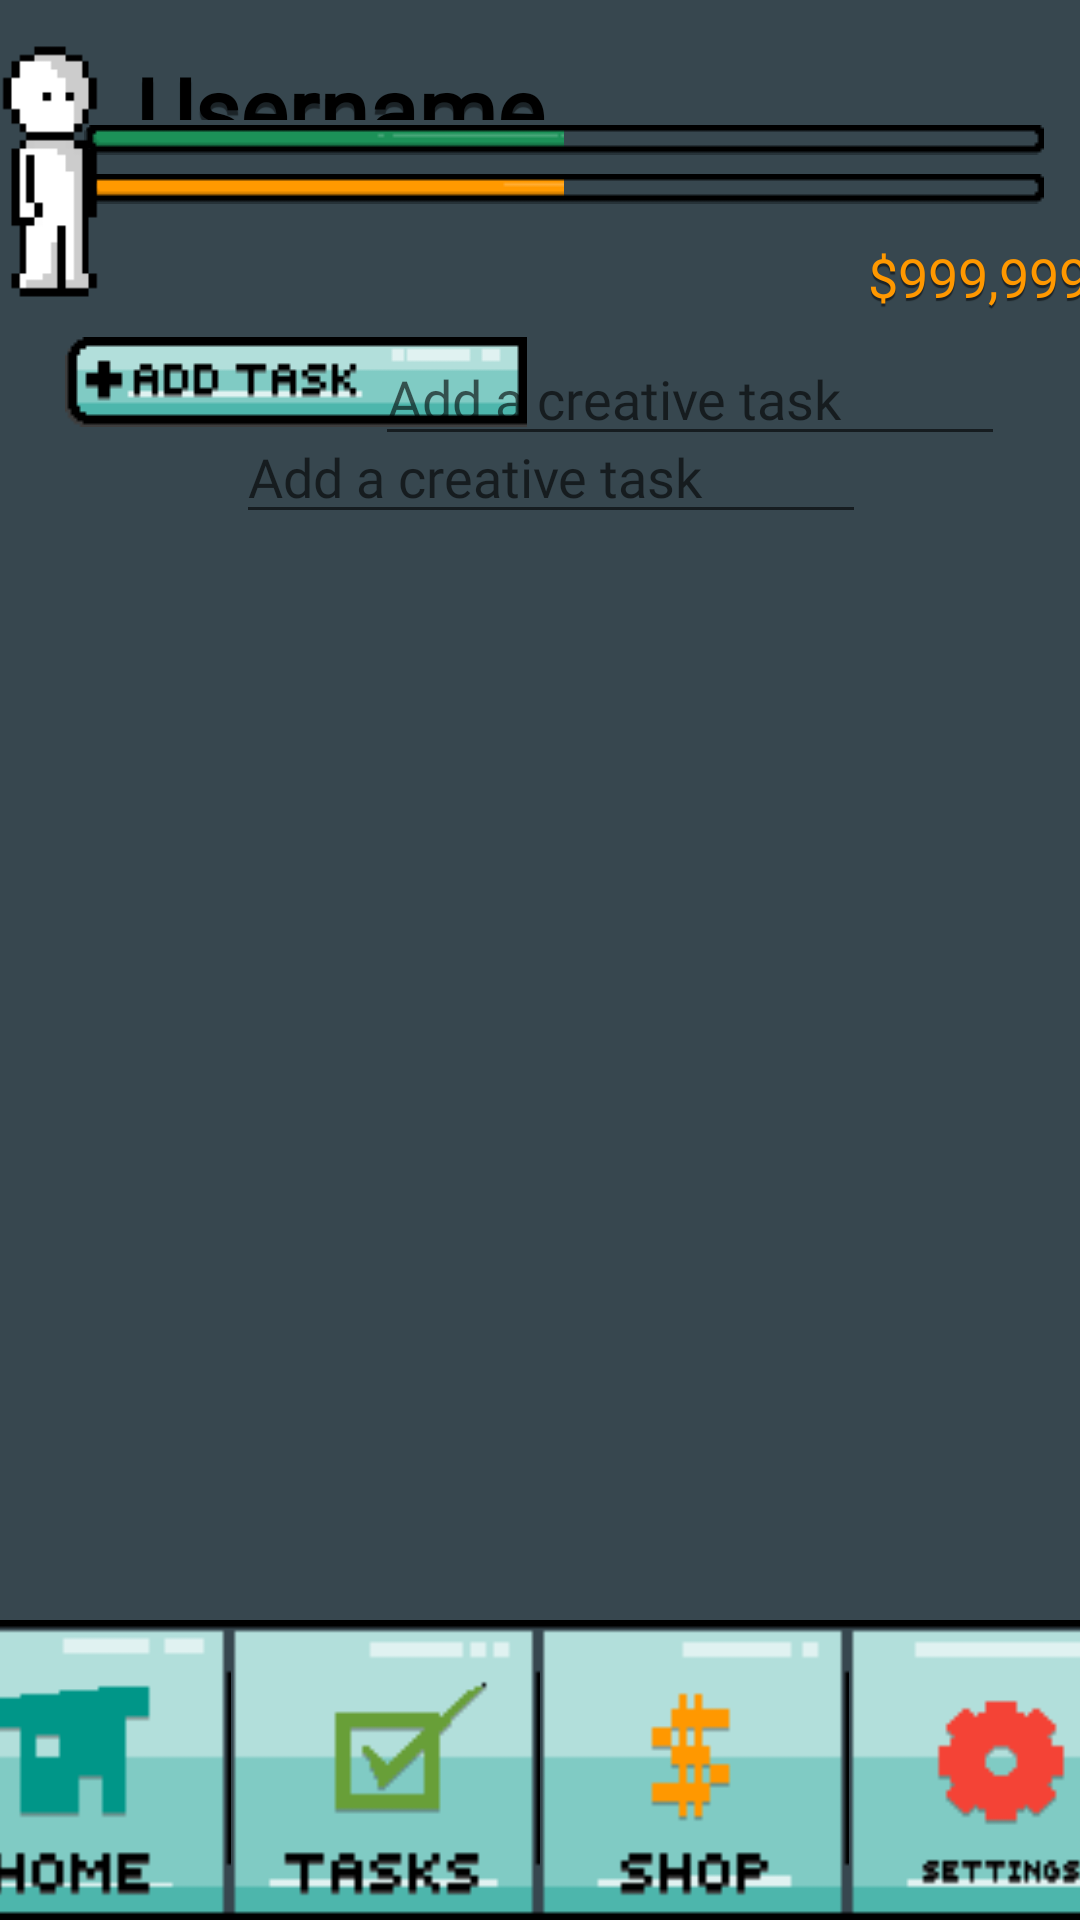

Screen size 1080×1920. Icon name, then its center in pixels as point (x, y):
Avatar: point (52, 171)
